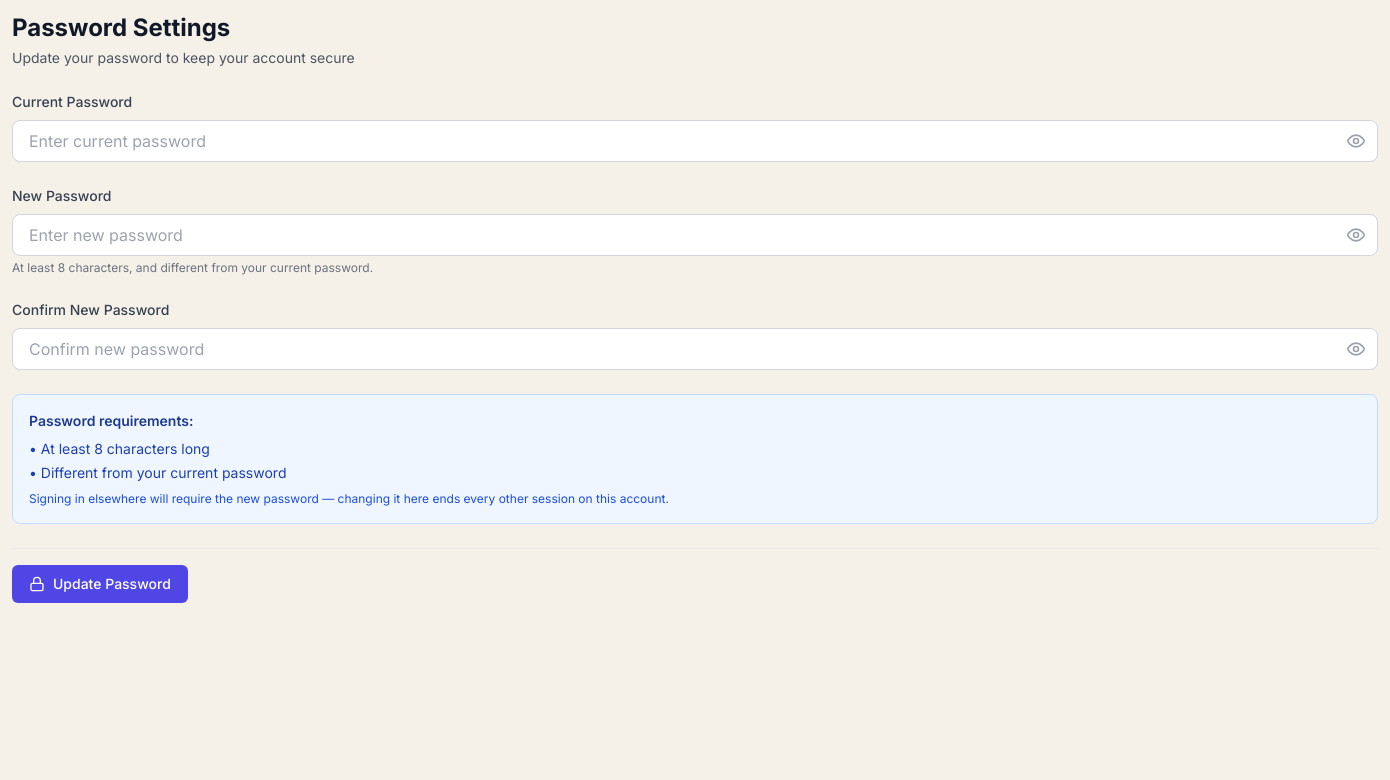
Test: PasswordSettings — change your own password › an empty form never reaches the server
Click the button "Update Password" at (100, 584), box [12,565,188,603]
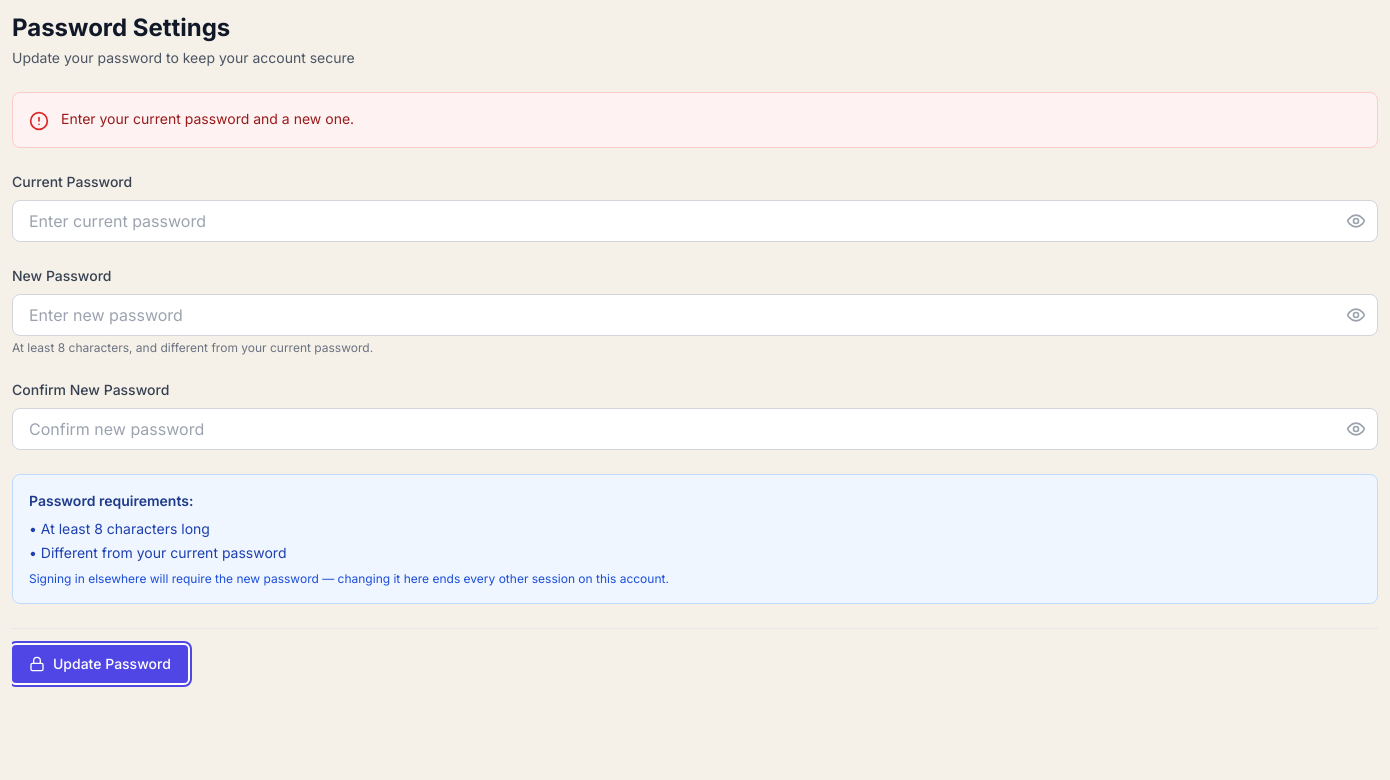
Check: the message shows "current password and a new one", box [61,110,354,127]
